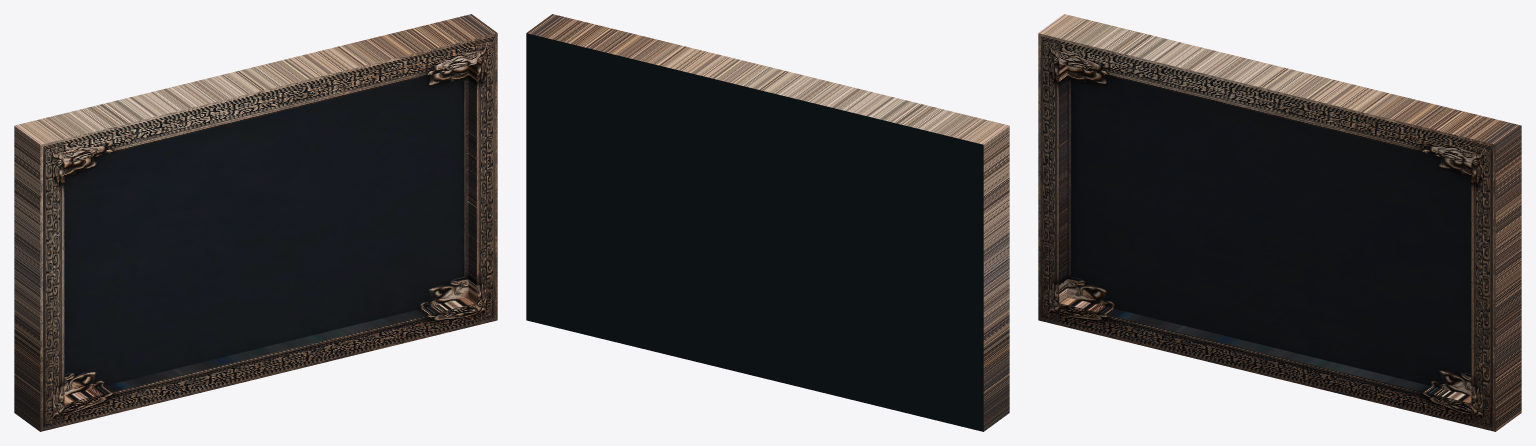
Rendered from panel_hint.glb.
The picture shows the model from 3 angles, left to right: view 1: azimuth 30°, elevation 25°; view 2: azimuth 150°, elevation 25°; view 3: azimuth 330°, elevation 25°; orthographic projection.
Visible parts, largest first — view 1: panel_hint; view 2: panel_hint; view 3: panel_hint.
Part boxes in pixels (x1,y1,x2,y2): panel_hint: (14,14,497,431); panel_hint: (526,14,1009,431); panel_hint: (1038,14,1521,431).
Size of the model in its own units: 0.4 by 0.24 by 0.042.
1 material, 1 textured.
